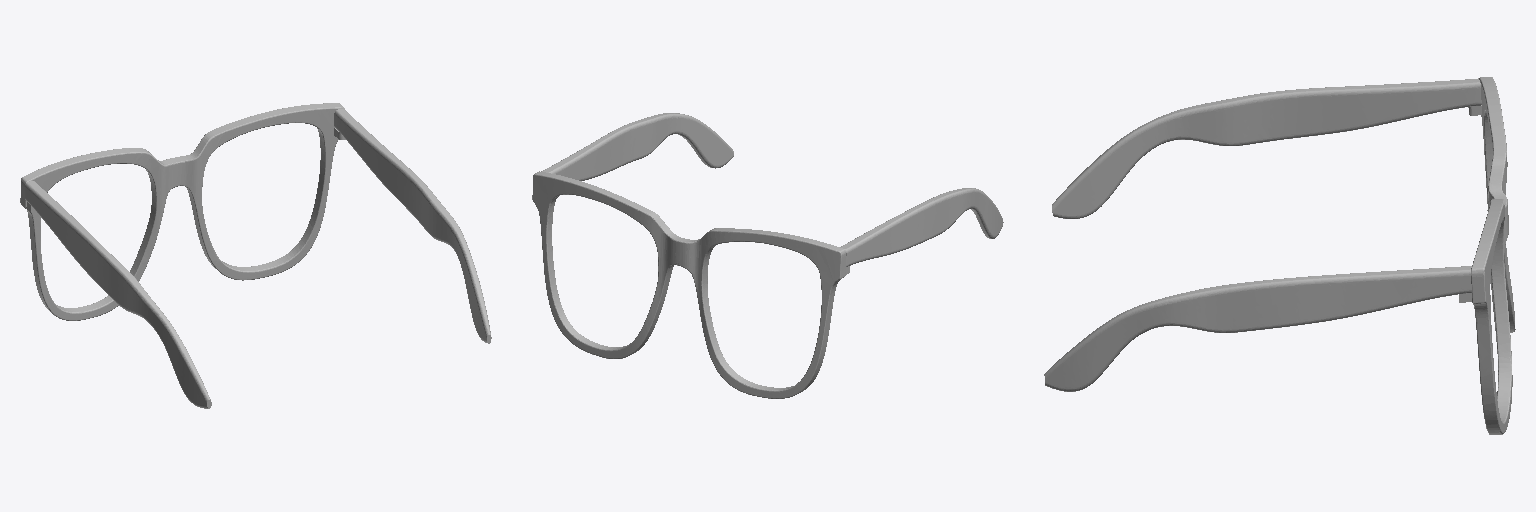
robot.urdf — root:
<robot name="root">
  <link name="link_001">
    <visual>
      <origin xyz="0 0 0" rpy="0 0 0"/>
      <geometry>
        <mesh filename="eyeglasses.obj" scale="1.0000E+00 1.0000E+00 1.5000E+00"/>
      </geometry>
      <material name="">
        <color rgba="7.50E-01 7.50E-01 7.50E-01 1"/>
      </material>
    </visual>
    <collision>
      <origin xyz="0 0 0" rpy="0 0 0"/>
      <geometry>
        <mesh filename="eyeglasses.obj" scale="1.0000E+00 1.0000E+00 1.5000E+00"/>
      </geometry>
    </collision>
    <inertial>
      <mass value="0.16"/> <!-- 质量：0.1kg -->
    </inertial>
  </link>
</robot>

--- Render facts (derived) ---
The picture shows the robot from 3 angles, left to right: view 1: azimuth 30°, elevation 25°; view 2: azimuth 150°, elevation 25°; view 3: azimuth 270°, elevation 25°; orthographic projection.
Robot: root — 1 links, 0 joints (none); root link link_001; default pose: every joint at zero.
Links seen in each view (by area): view 1: link_001; view 2: link_001; view 3: link_001.
Boxes of the visible links, x1,y1,x2,y2 form: link_001: (20,103,491,408); link_001: (532,113,1003,398); link_001: (1044,77,1515,434).
Size in the robot's own frame: 0.1348 by 0.137 by 0.0663 metres.
Meshes: 1 distinct files referenced, 1 mesh visuals loaded (1 OBJ).
